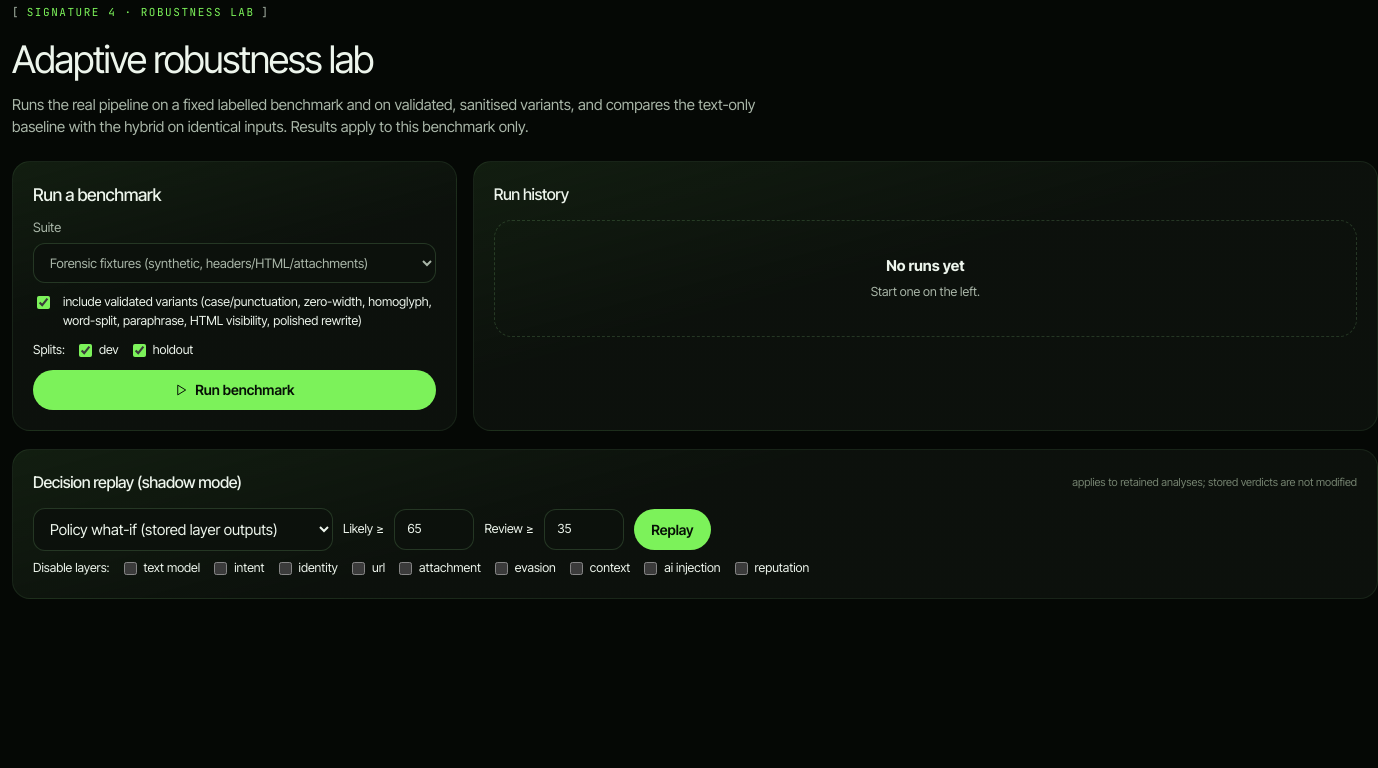
Robustness lab › starts a real benchmark run via the API
Click the button "Run benchmark": (234, 390) left=33, top=370, right=436, bottom=410
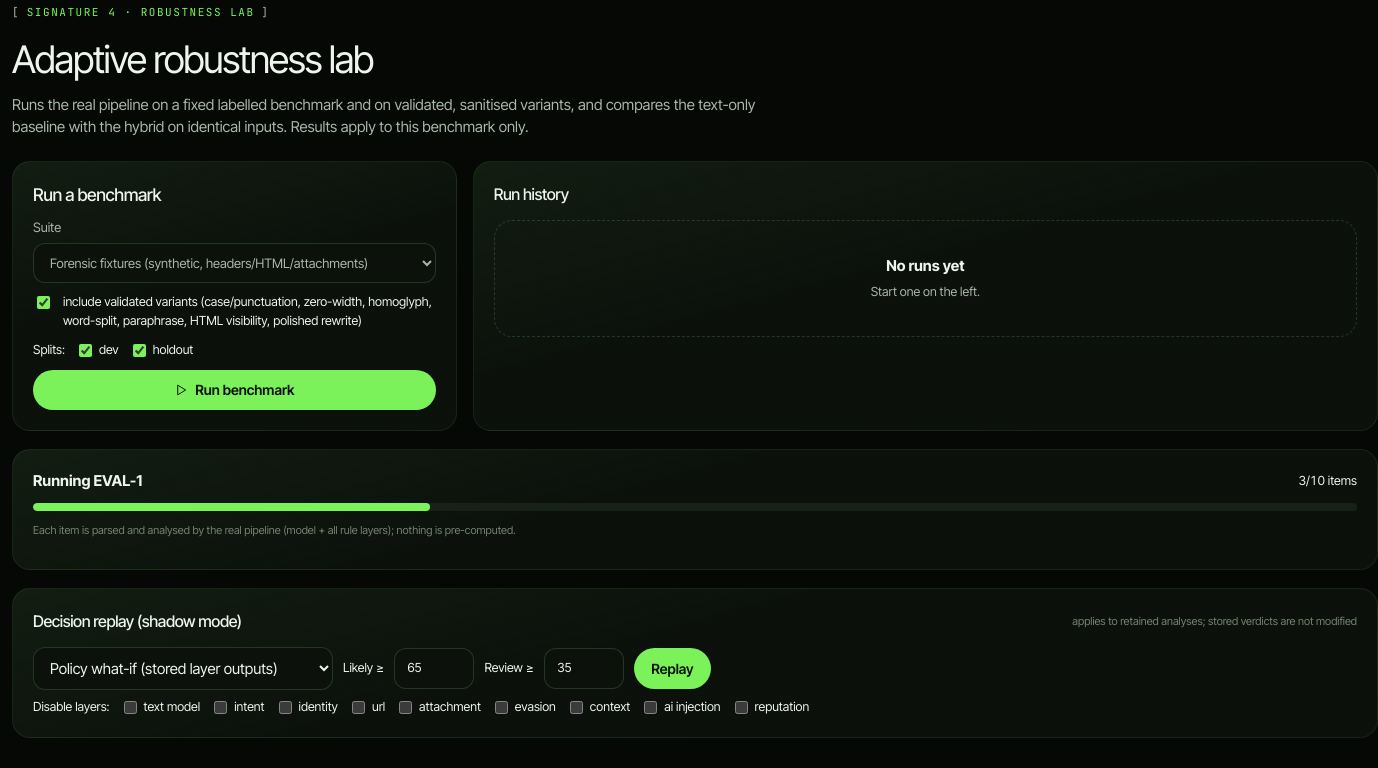
Check: the progress indicator is shown, box left=33, top=503, right=1357, bottom=511
